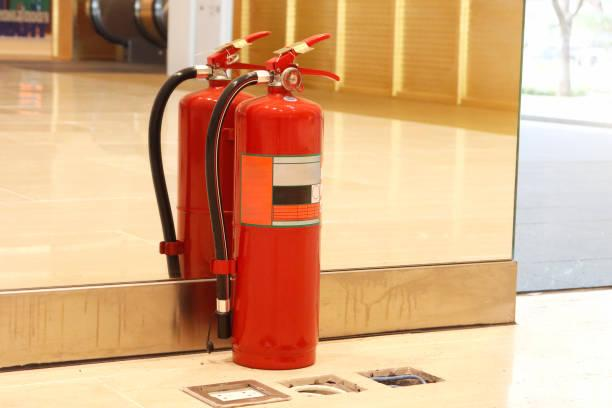floor-kept: (142, 26, 365, 373)
